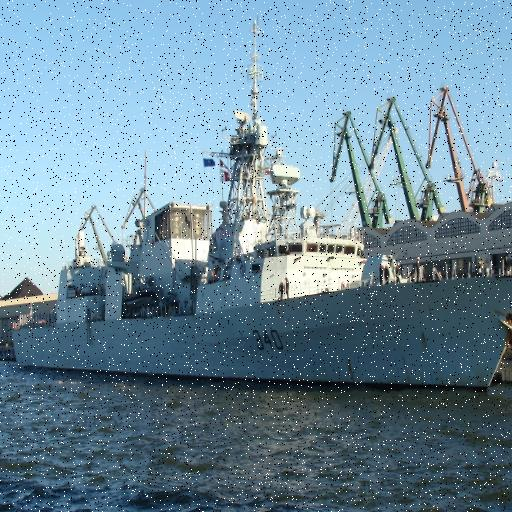Fragata: (8, 13, 512, 398)
